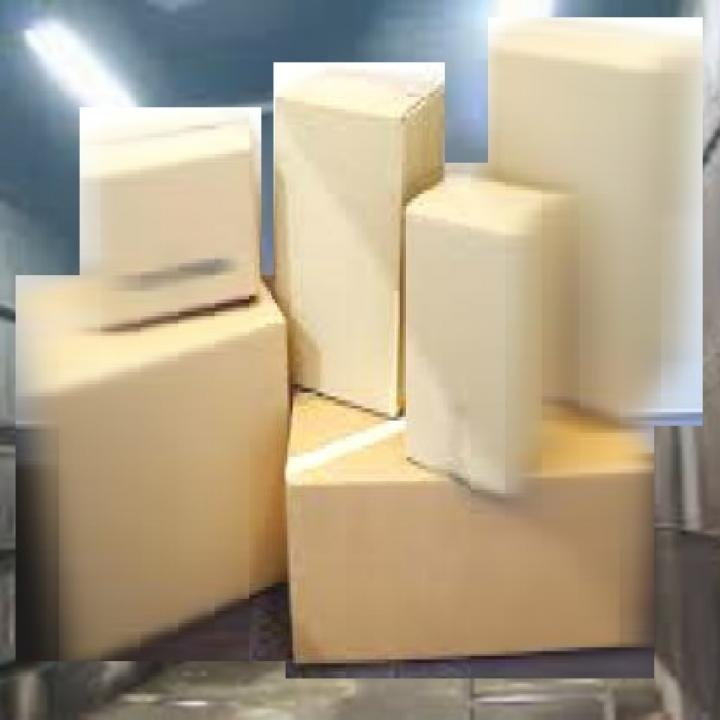box: (12, 271, 293, 667), (280, 396, 662, 684), (485, 12, 707, 433), (272, 56, 448, 434), (402, 158, 562, 518), (78, 105, 265, 340)
